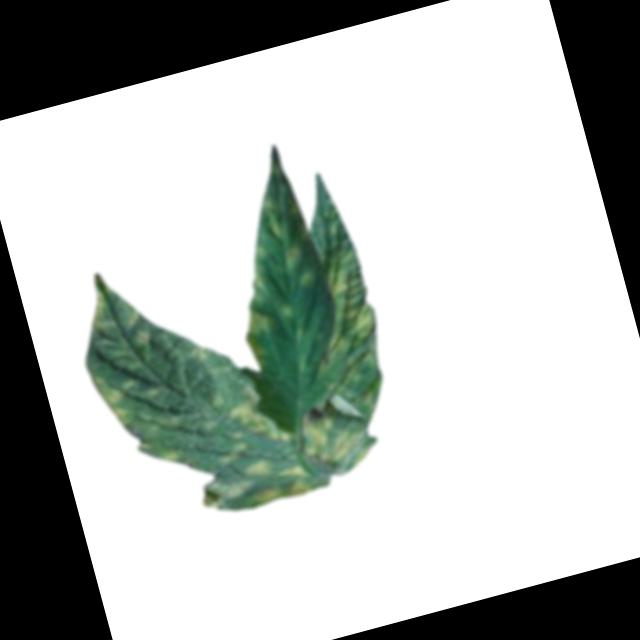Leaf_Mold: (262, 245, 415, 483), (176, 372, 312, 521), (88, 359, 184, 480), (236, 300, 283, 371), (281, 242, 313, 267)
